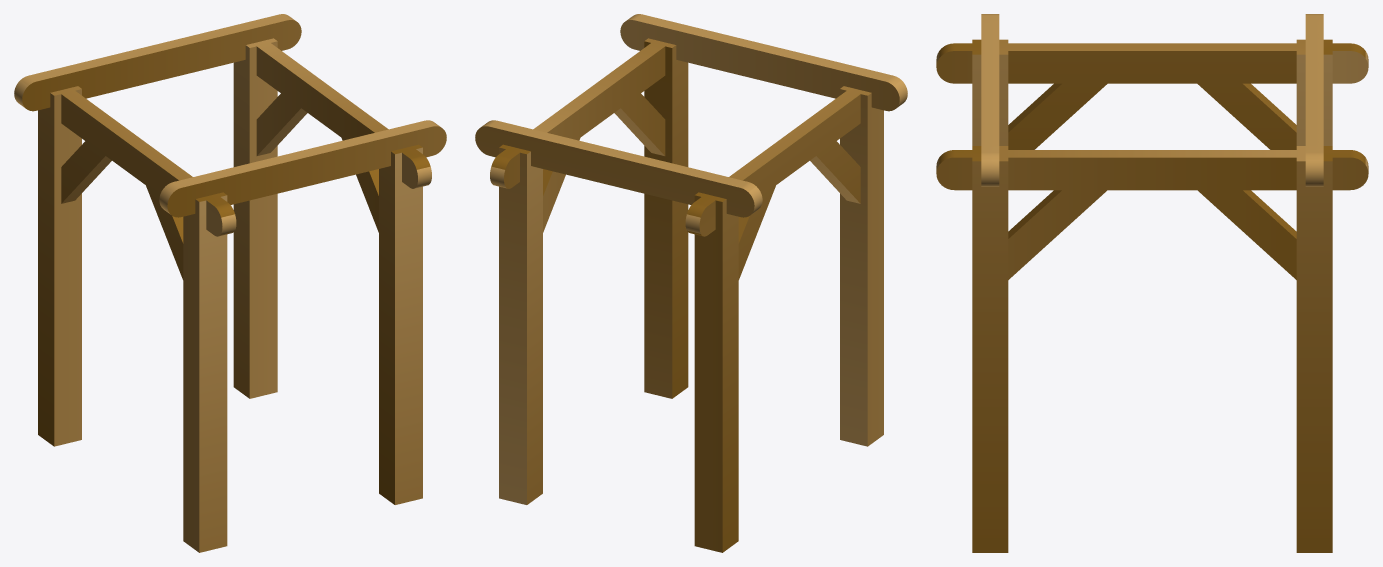
The model's file is Wooden trellis final version.fbx.
3 renders of one model, left to right at view 1: azimuth 30°, elevation 25°; view 2: azimuth 150°, elevation 25°; view 3: azimuth 270°, elevation 25°, orthographic. The views are drawn at different scales.
Parts seen in each view (by area): view 1: pCube20; view 2: pCube20; view 3: pCube20.
Part boxes in pixels (x1,y1,x2,y2): pCube20: [14, 14, 446, 552]; pCube20: [475, 14, 907, 552]; pCube20: [936, 14, 1368, 552].
Bounding box in the file's own units: 10 × 12.5 × 12.
1 material, 1 textured.
